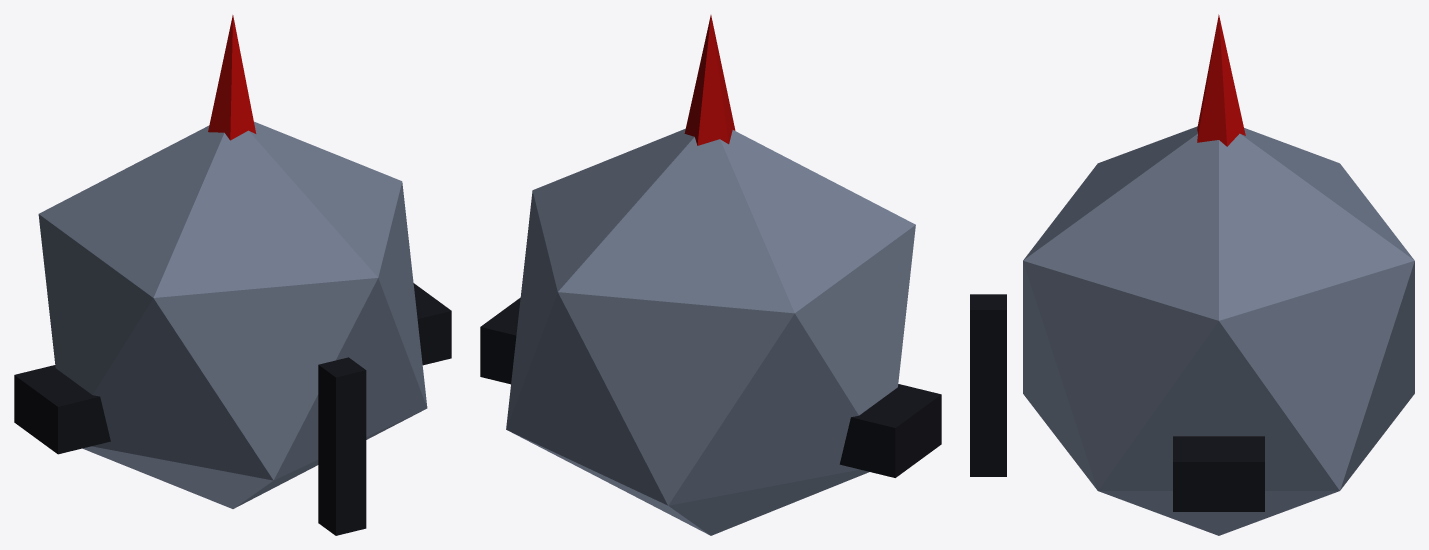
Rendered from helmet.obj.
The picture shows the model from 3 angles, left to right: view 1: azimuth 30°, elevation 25°; view 2: azimuth 150°, elevation 25°; view 3: azimuth 270°, elevation 25°; orthographic projection. The views are drawn at different scales.
Parts seen in each view (by area): view 1: helmet; view 2: helmet; view 3: helmet.
Boxes of the visible parts, x1,y1,x2,y2 form: helmet: (14,15,451,535); helmet: (480,15,941,535); helmet: (970,14,1414,535).
Bounding box in the file's own units: 0.52 × 0.625 × 0.4827.
